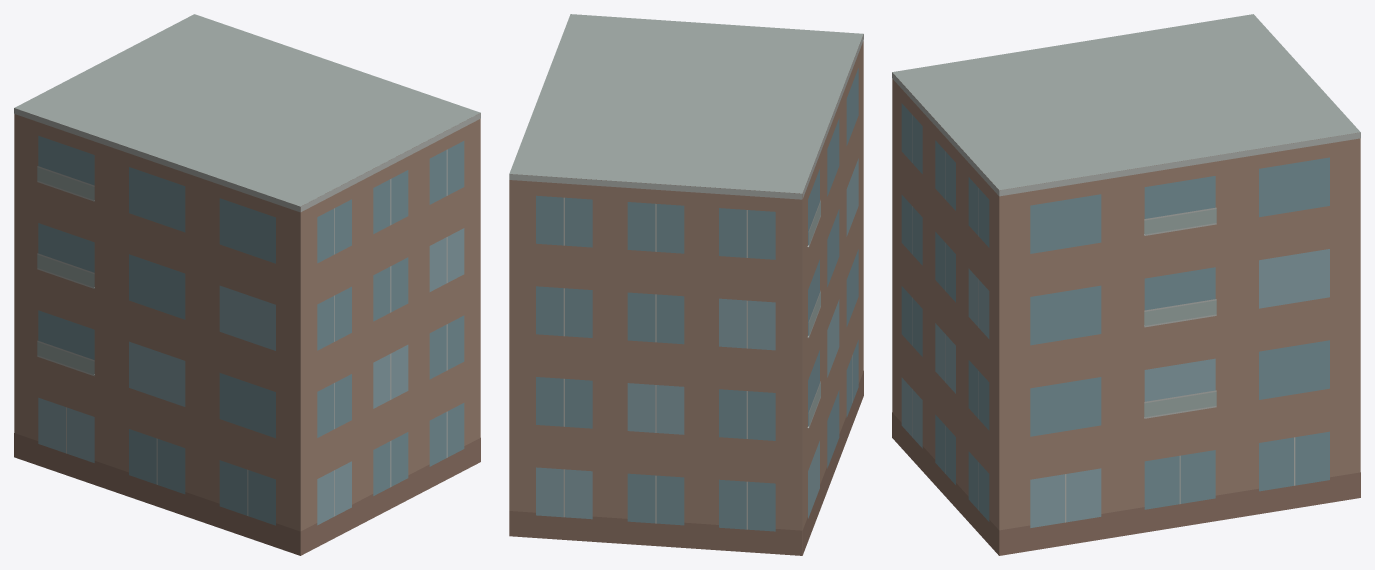
The model's file is survey-upis-32845523.glb.
The picture shows the model from 3 angles, left to right: view 1: azimuth 30°, elevation 25°; view 2: azimuth 150°, elevation 25°; view 3: azimuth 270°, elevation 25°; orthographic projection. The views are drawn at different scales.
Parts seen in each view (by area): view 1: survey-upis-32845523.tmp; view 2: survey-upis-32845523.tmp; view 3: survey-upis-32845523.tmp.
Part boxes in pixels (x1,y1,x2,y2): survey-upis-32845523.tmp: [14, 14, 480, 555]; survey-upis-32845523.tmp: [509, 14, 863, 555]; survey-upis-32845523.tmp: [892, 14, 1360, 555].
Size of the model in its own units: 15.1 by 14.59 by 16.96.
